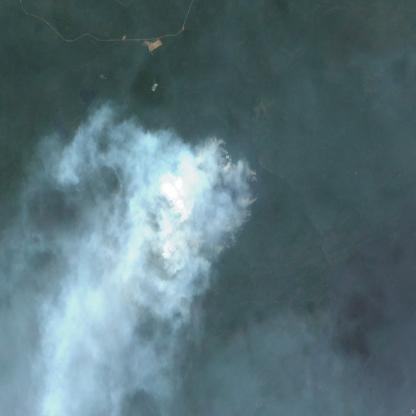fire: (165, 135, 261, 260)
